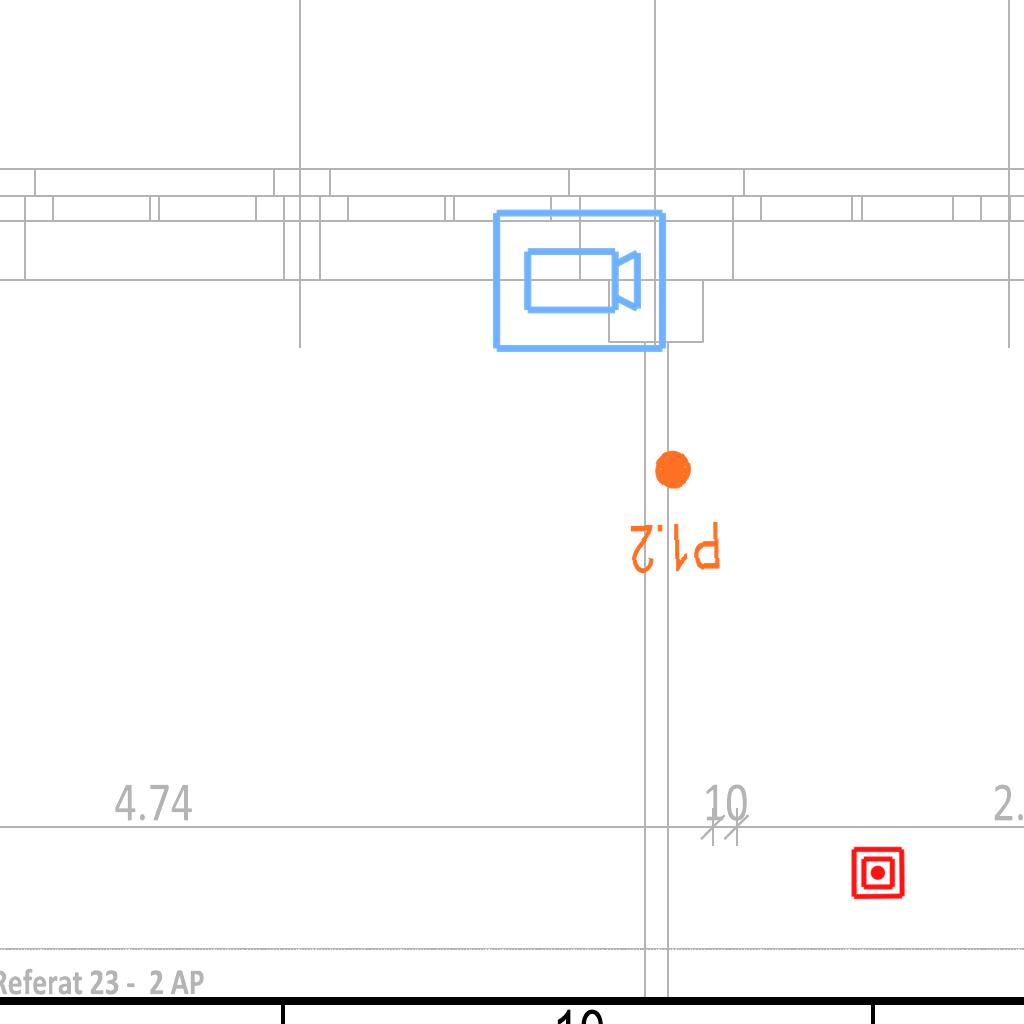Downlight_LED_Einbauleuchten_Flur: (623, 444, 724, 578)
KFO_Kamera_mit_Festobjektiv: (488, 205, 670, 359)
NAM-Nichtautomatischer_Melder: (850, 845, 906, 901)
